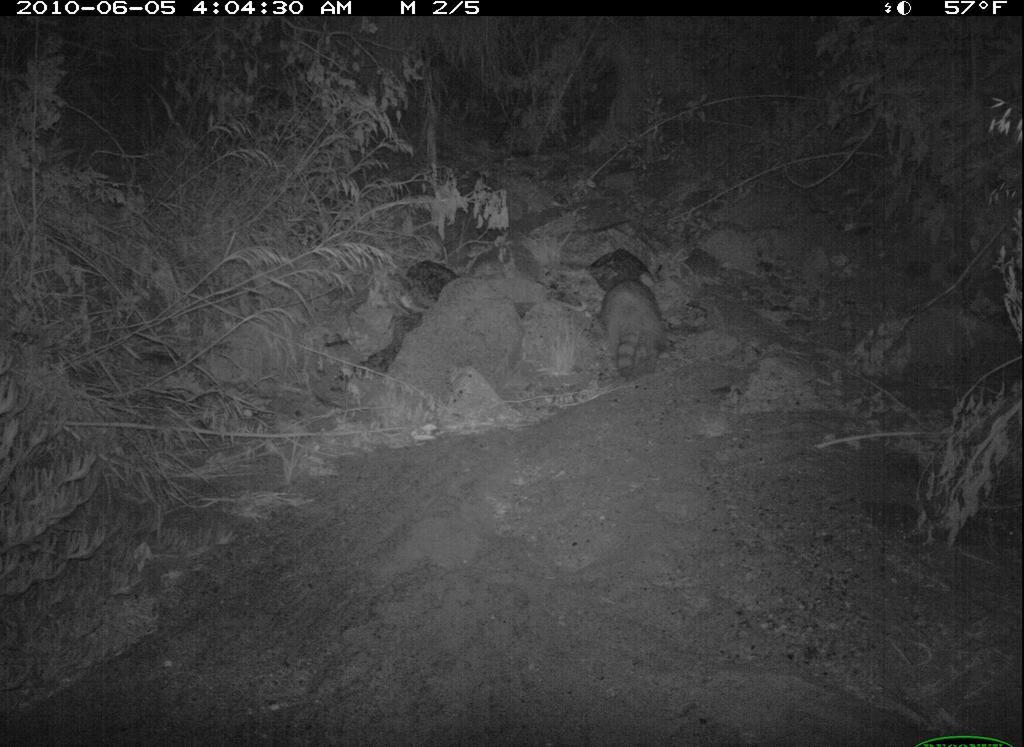raccoon: (596, 276, 674, 386)
